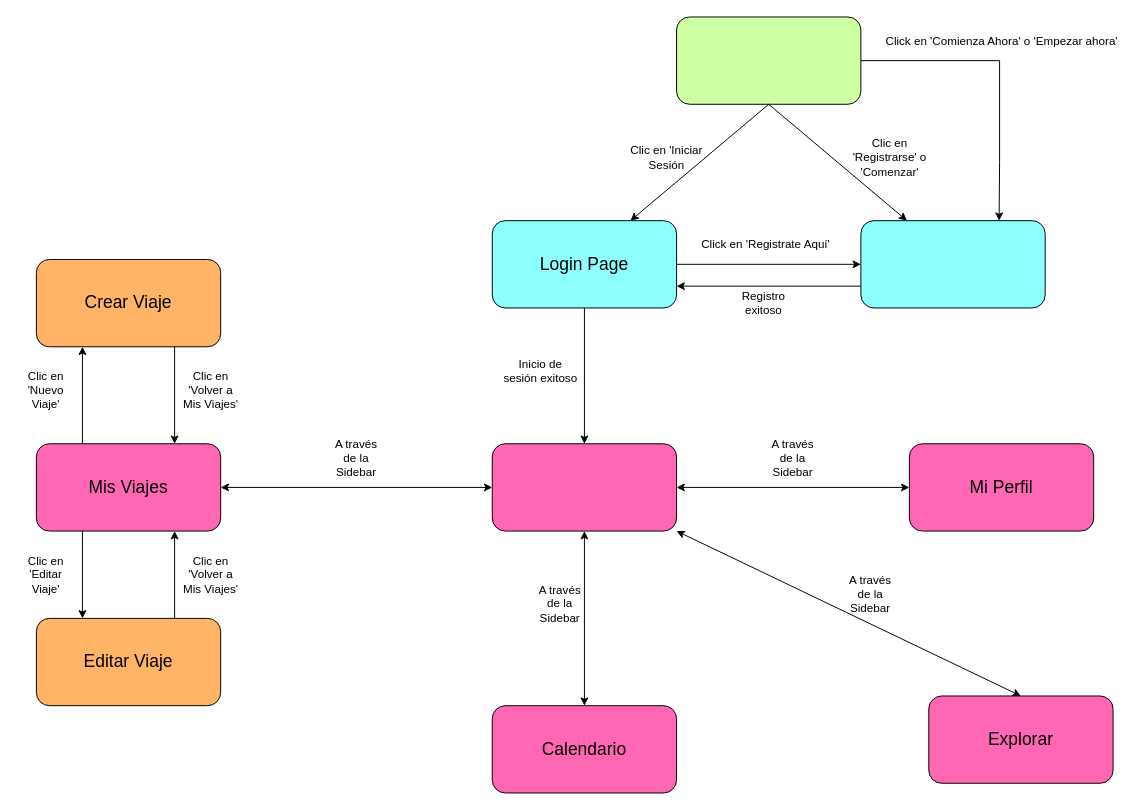
The diagram is 1144 pixels wide and 810 high, and some of its shapes have lost their labels. Each missing label, with the box of its shape:
Inicio (Dashboard): (491, 443, 677, 531)
Landing Page: (676, 16, 861, 104)
Register Page: (860, 220, 1045, 308)
